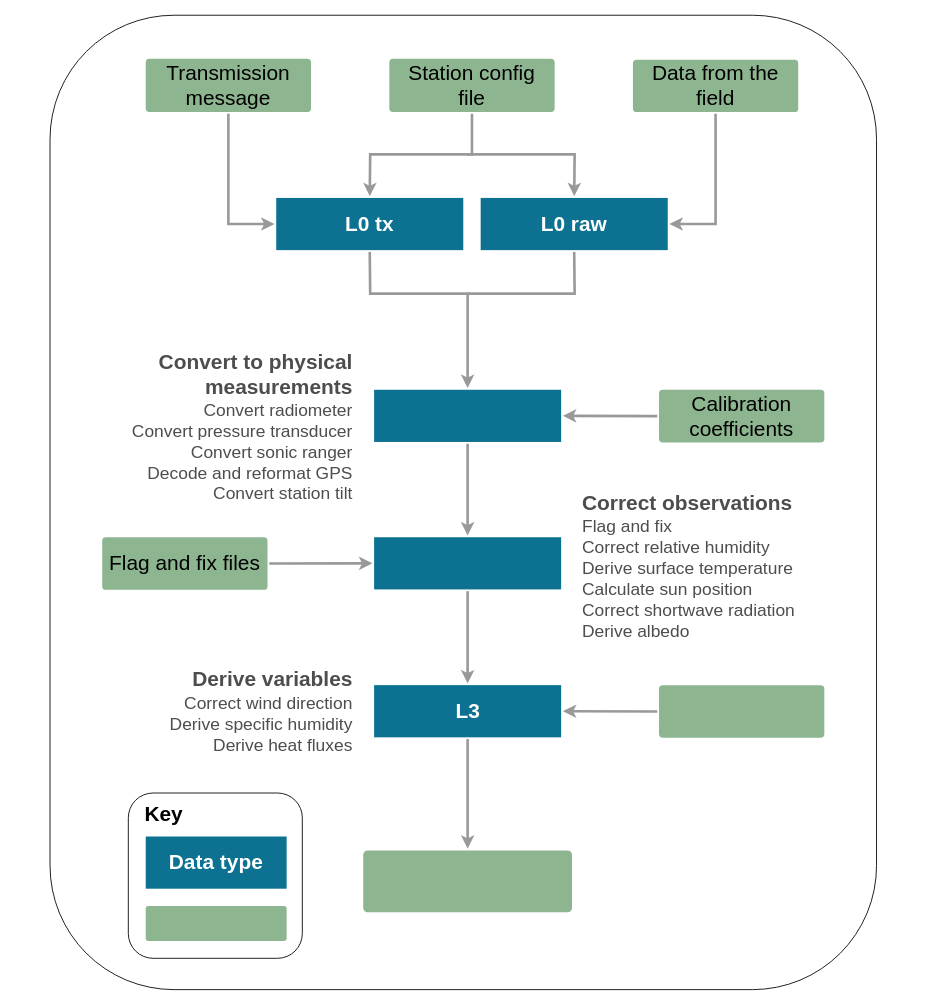
This 926x1005 diagram has some shape labels left out. The shapes that lost their labels are listed below. From the top down, each one's centre as x and y in pixels, then its label:
[467,415]: L1
[467,563]: L2
[741,711]: Metadata with CF conventions
[467,881]: L3 .csv .nc files
[215,923]: Input/output
